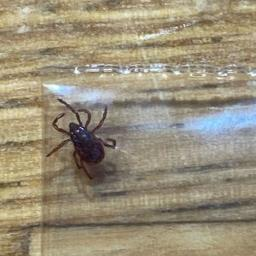Rhipicephalus sanguineus: (46, 97, 116, 181)
